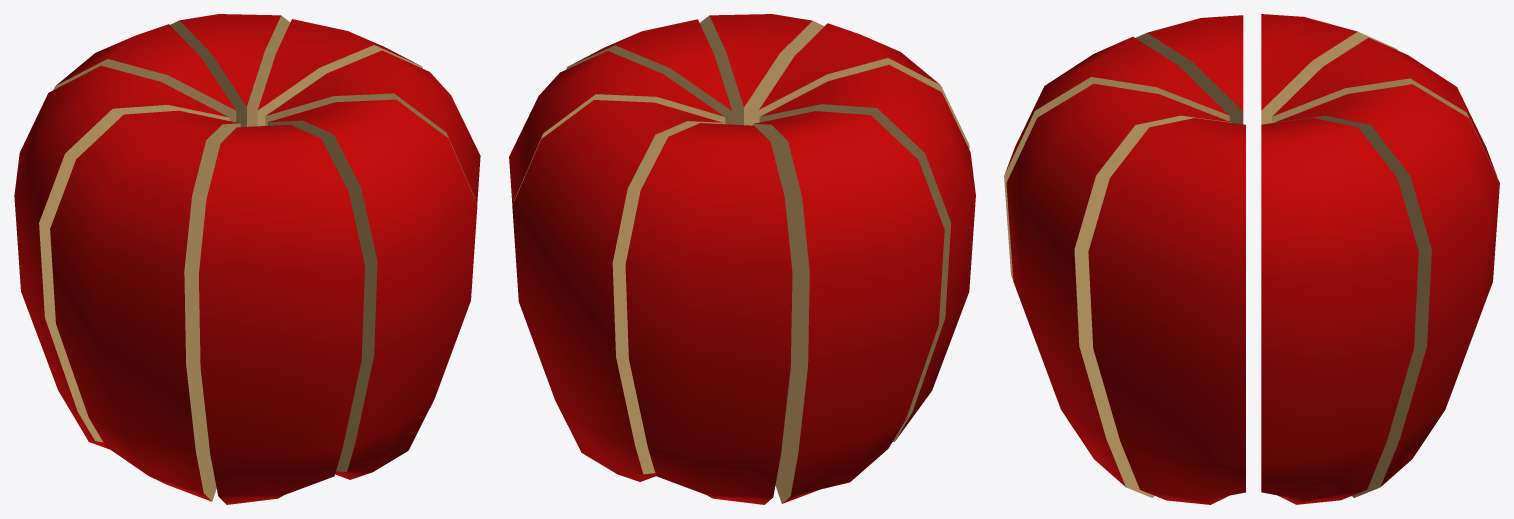
Rendered from mesh_apple_cut03.fbx.
3 views of the same model, side by side, from view 1: azimuth 30°, elevation 25°; view 2: azimuth 150°, elevation 25°; view 3: azimuth 270°, elevation 25° (orthographic). The views are drawn at different scales.
Parts seen in each view (by area): view 1: mesh_apple_cut03_slice02, mesh_apple_cut03_slice05, mesh_apple_cut03_slice08, mesh_apple_cut03_slice03, mesh_apple_cut03_slice04, mesh_apple_cut03_slice01, mesh_apple_cut03_slice06, mesh_apple_cut03_slice07; view 2: mesh_apple_cut03_slice06, mesh_apple_cut03_slice03, mesh_apple_cut03_slice01, mesh_apple_cut03_slice05, mesh_apple_cut03_slice07, mesh_apple_cut03_slice08, mesh_apple_cut03_slice02, mesh_apple_cut03_slice04; view 3: mesh_apple_cut03_slice07, mesh_apple_cut03_slice04, mesh_apple_cut03_slice08, mesh_apple_cut03_slice01, mesh_apple_cut03_slice02, mesh_apple_cut03_slice06, mesh_apple_cut03_slice05, mesh_apple_cut03_slice03.
Boxes of the visible parts, bbox=[...] form: mesh_apple_cut03_slice02: bbox=[199, 124, 364, 504]; mesh_apple_cut03_slice05: bbox=[50, 110, 240, 501]; mesh_apple_cut03_slice08: bbox=[267, 99, 477, 479]; mesh_apple_cut03_slice03: bbox=[14, 65, 229, 449]; mesh_apple_cut03_slice04: bbox=[265, 50, 480, 203]; mesh_apple_cut03_slice01: bbox=[170, 14, 290, 127]; mesh_apple_cut03_slice06: bbox=[53, 24, 236, 122]; mesh_apple_cut03_slice07: bbox=[257, 19, 422, 126]; mesh_apple_cut03_slice06: bbox=[625, 123, 792, 504]; mesh_apple_cut03_slice03: bbox=[753, 111, 944, 503]; mesh_apple_cut03_slice01: bbox=[512, 100, 723, 481]; mesh_apple_cut03_slice05: bbox=[759, 65, 975, 442]; mesh_apple_cut03_slice07: bbox=[509, 51, 725, 205]; mesh_apple_cut03_slice08: bbox=[700, 14, 824, 125]; mesh_apple_cut03_slice02: bbox=[759, 23, 969, 149]; mesh_apple_cut03_slice04: bbox=[566, 19, 732, 124]; mesh_apple_cut03_slice07: bbox=[1261, 118, 1418, 504]; mesh_apple_cut03_slice04: bbox=[1088, 118, 1245, 504]; mesh_apple_cut03_slice08: bbox=[1006, 83, 1231, 497]; mesh_apple_cut03_slice01: bbox=[1274, 84, 1499, 497]; mesh_apple_cut03_slice02: bbox=[1004, 36, 1229, 280]; mesh_apple_cut03_slice06: bbox=[1272, 37, 1497, 177]; mesh_apple_cut03_slice05: bbox=[1135, 15, 1243, 124]; mesh_apple_cut03_slice03: bbox=[1261, 14, 1397, 124].
Size of the model in its own units: 0.1638 by 0.1419 by 0.1677.
